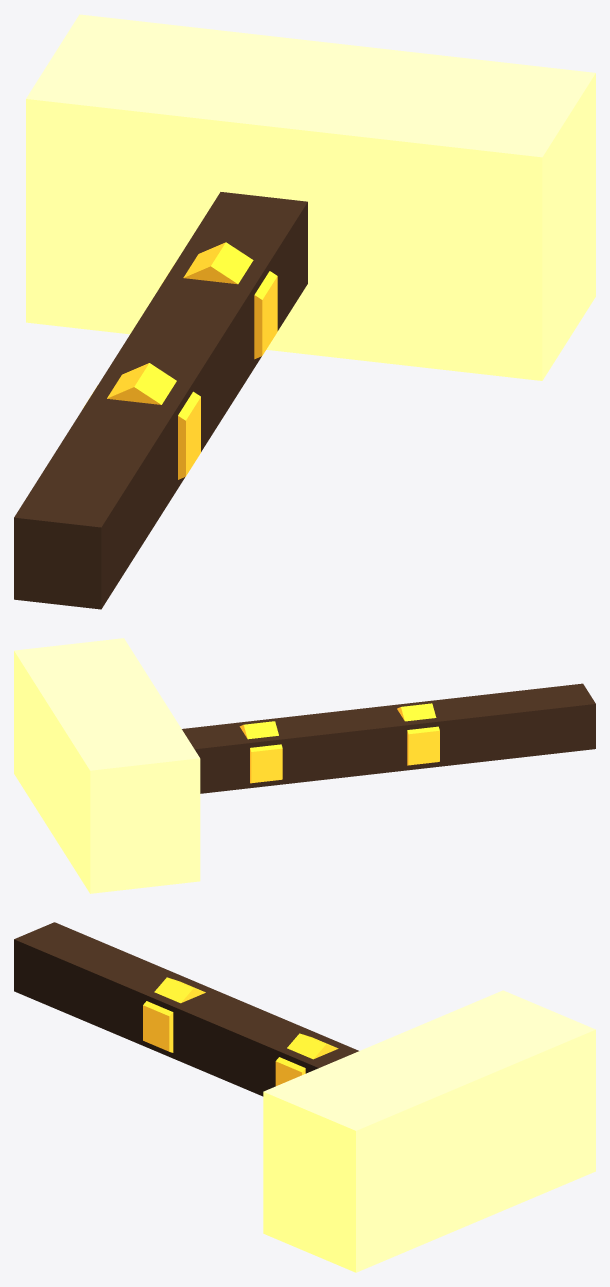
File: saints_hammer.glb
3 views of the same model, one above another, from view 1: azimuth 30°, elevation 25°; view 2: azimuth 150°, elevation 25°; view 3: azimuth 270°, elevation 25° (orthographic). The views are drawn at different scales.
Parts seen in each view (by area): view 1: saints_hammer; view 2: saints_hammer; view 3: saints_hammer.
Part boxes in pixels (bbox=[...]): saints_hammer: bbox=[14, 14, 595, 609]; saints_hammer: bbox=[14, 638, 595, 893]; saints_hammer: bbox=[14, 922, 595, 1272].
Size of the model in its own units: 0.9203 by 0.24 by 0.892.
